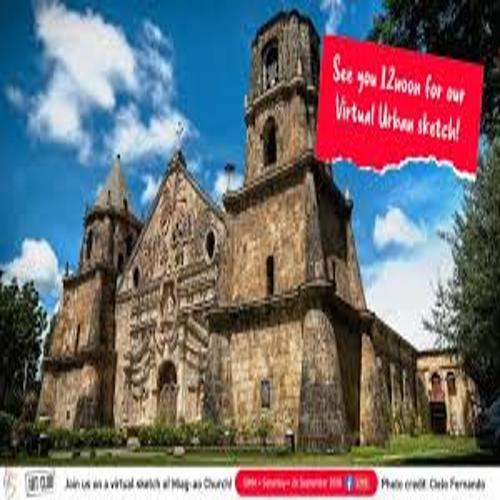Miagao Church: (36, 7, 363, 454)
